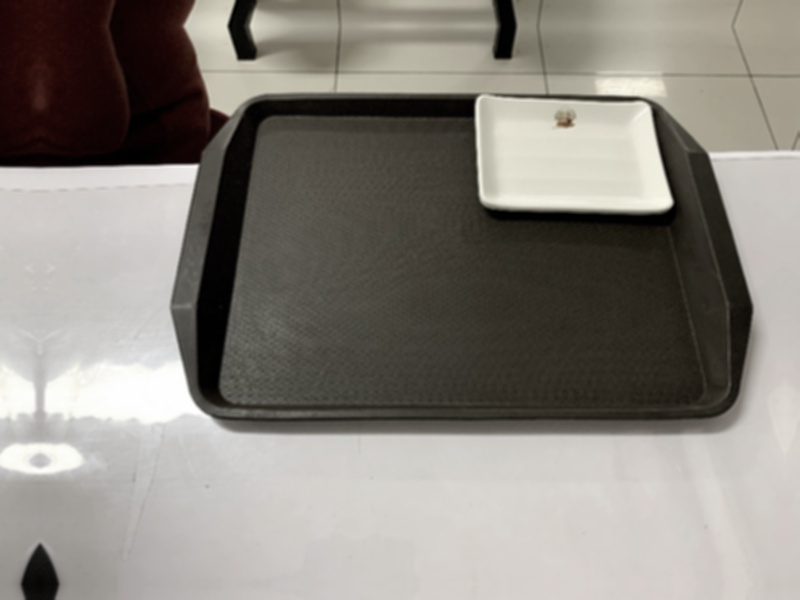dish4: (466, 90, 681, 223)
